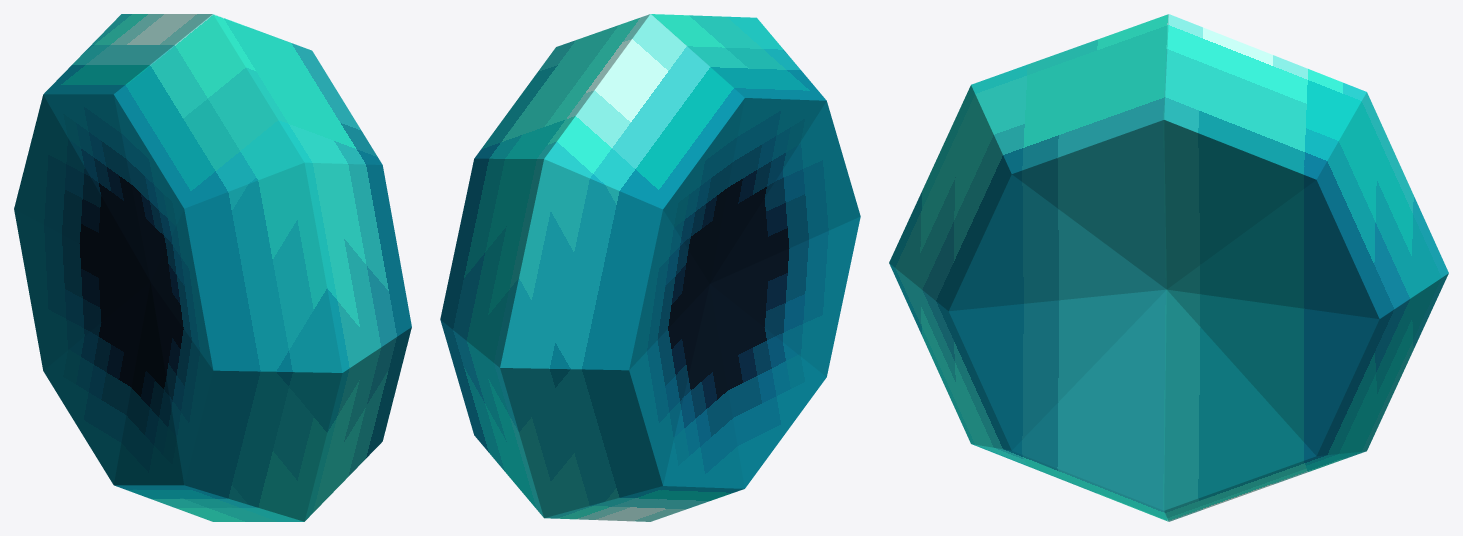
The picture shows the model from 3 angles, left to right: view 1: azimuth 30°, elevation 25°; view 2: azimuth 150°, elevation 25°; view 3: azimuth 270°, elevation 25°; orthographic projection.
Parts seen in each view (by area): view 1: mesh_5BA13EF786203E60; view 2: mesh_5BA13EF786203E60; view 3: mesh_5BA13EF786203E60.
Part boxes in pixels (bbox=[...]): mesh_5BA13EF786203E60: bbox=[14, 14, 411, 521]; mesh_5BA13EF786203E60: bbox=[440, 14, 860, 521]; mesh_5BA13EF786203E60: bbox=[889, 14, 1448, 521].
Size of the model in its own units: 0.6483 by 1.5 by 1.5.
